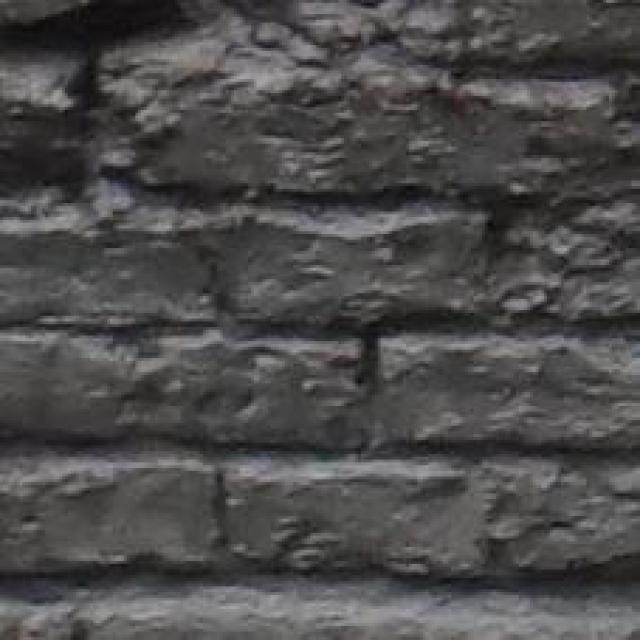Crack: (0, 0, 225, 288)
